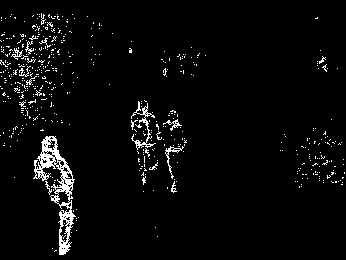person: (33, 134, 76, 255), (131, 99, 161, 185), (161, 107, 187, 195)
